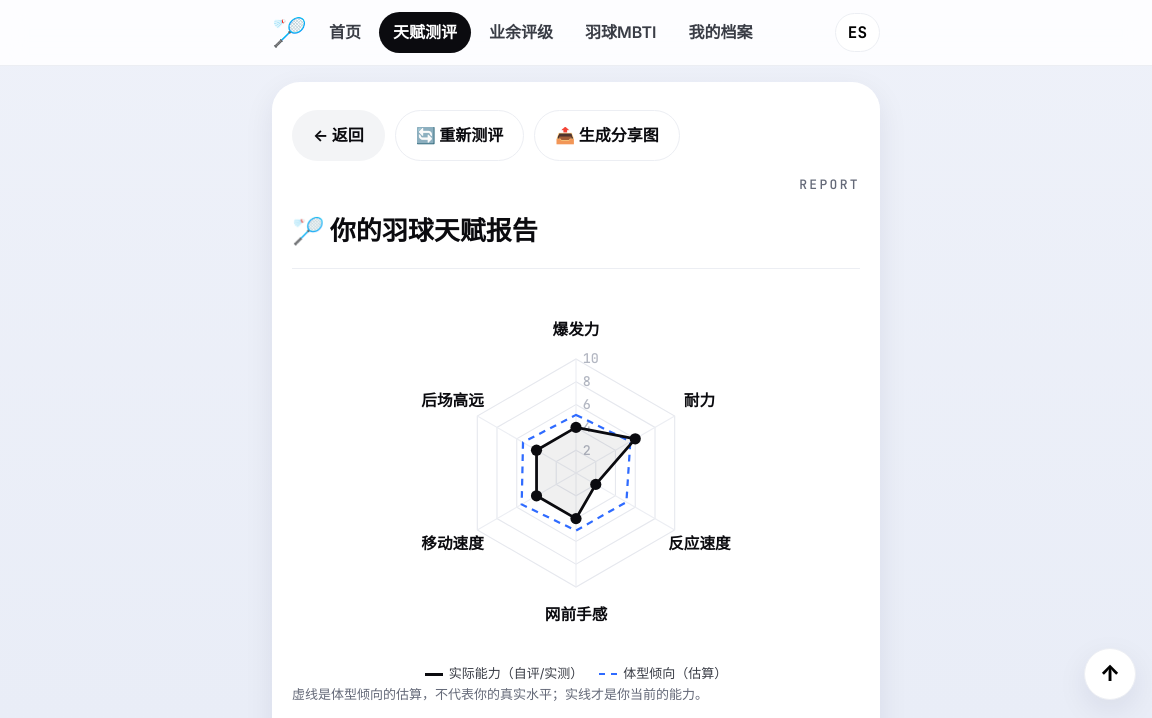
Test: muestra un error comprensible si no se puede generar la imagen
The width and height of the screenshot is (1152, 718).
Click the button "📤 生成分享图" at {"x": 607, "y": 136}, box [534, 110, 680, 161]
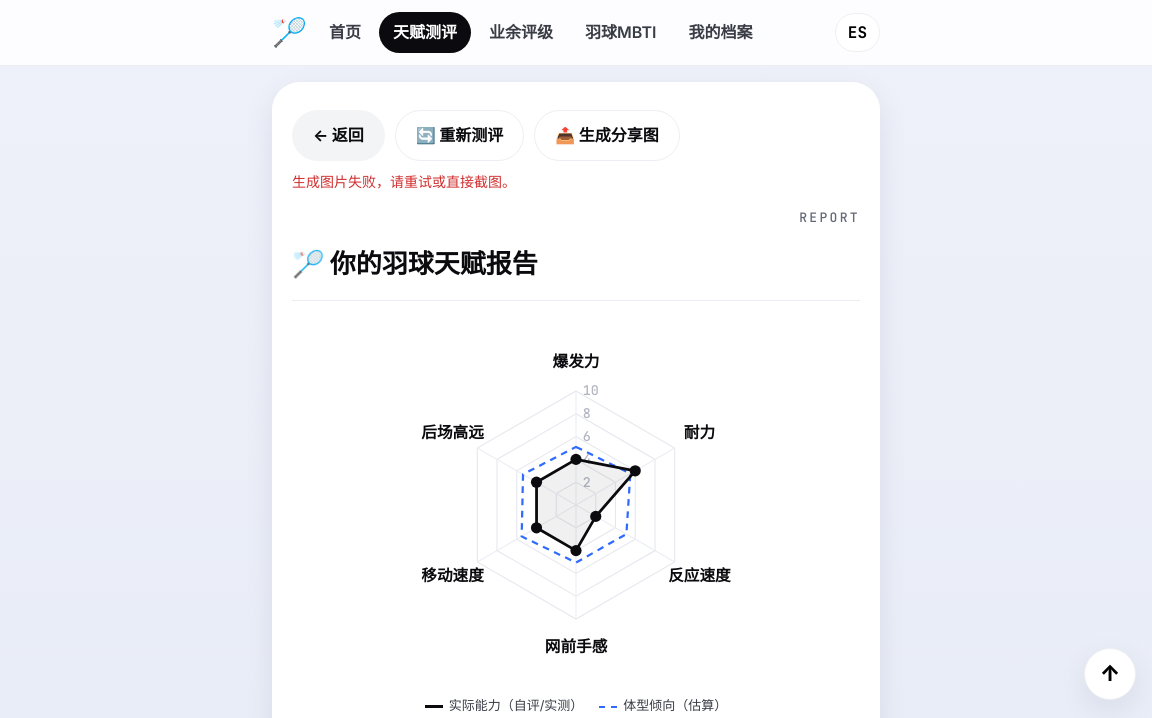
Result: the text "生成图片失败，请重试或直接截图。" is shown at [292, 171, 516, 194]
